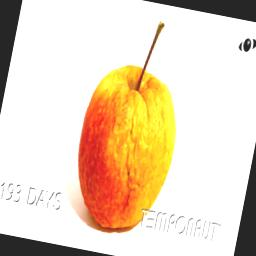Apple Overripe: (62, 0, 204, 242)
